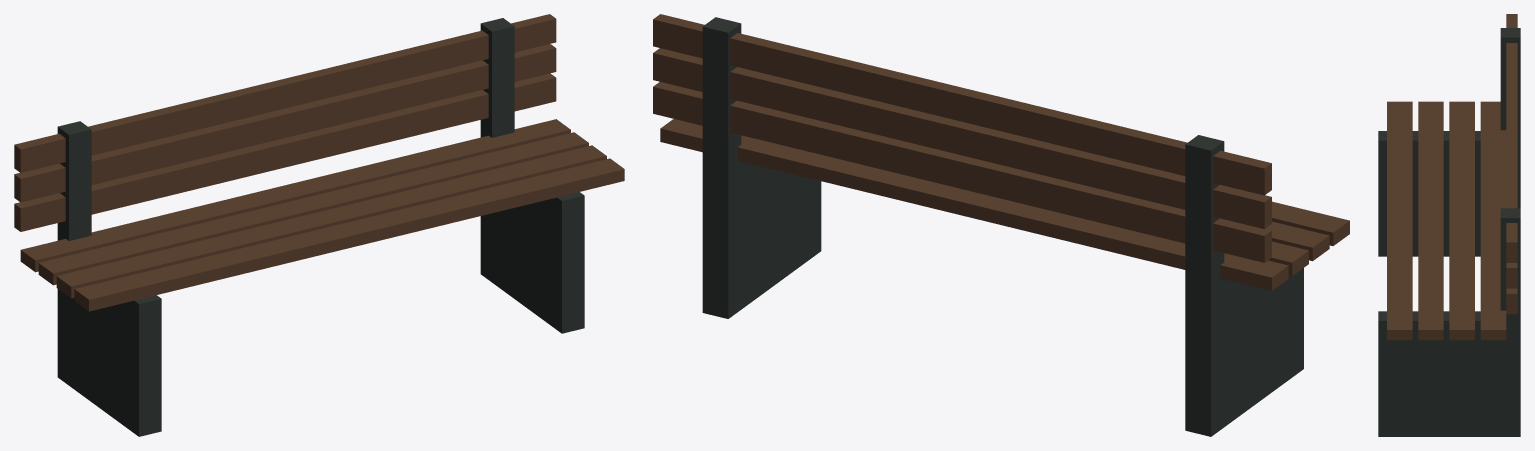
File: Prop_Bench.fbx
3 renders of one model, left to right at view 1: azimuth 30°, elevation 25°; view 2: azimuth 150°, elevation 25°; view 3: azimuth 270°, elevation 25°, orthographic. The views are drawn at different scales.
Parts seen in each view (by area): view 1: Prop_Bench; view 2: Prop_Bench; view 3: Prop_Bench.
Part boxes in pixels (box(x1,y1,x2,y2)): Prop_Bench: box(14, 14, 624, 436); Prop_Bench: box(653, 14, 1349, 436); Prop_Bench: box(1378, 14, 1520, 436).
Bounding box in the file's own units: 1.9 × 0.85 × 0.5.
